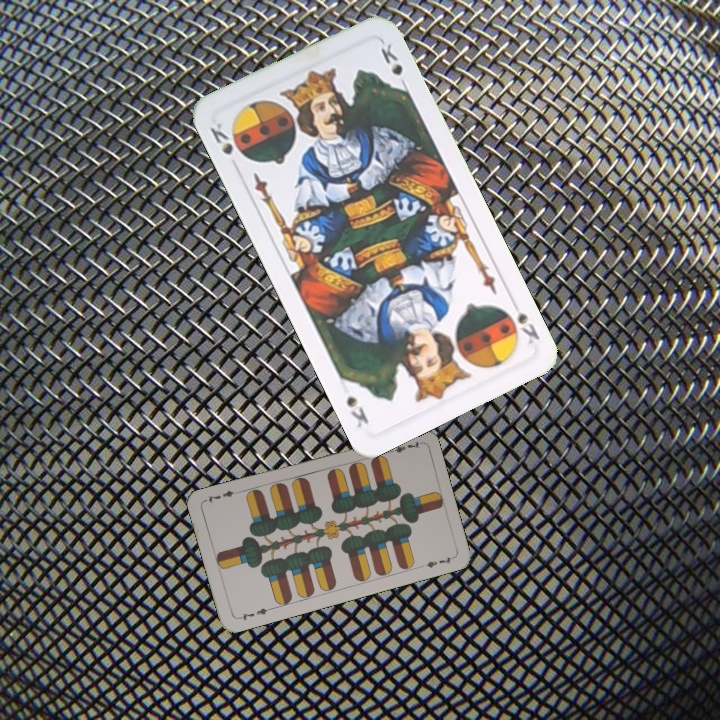E7: (234, 604, 274, 623), (383, 437, 423, 456)
SK: (506, 294, 542, 347), (206, 118, 248, 161)
